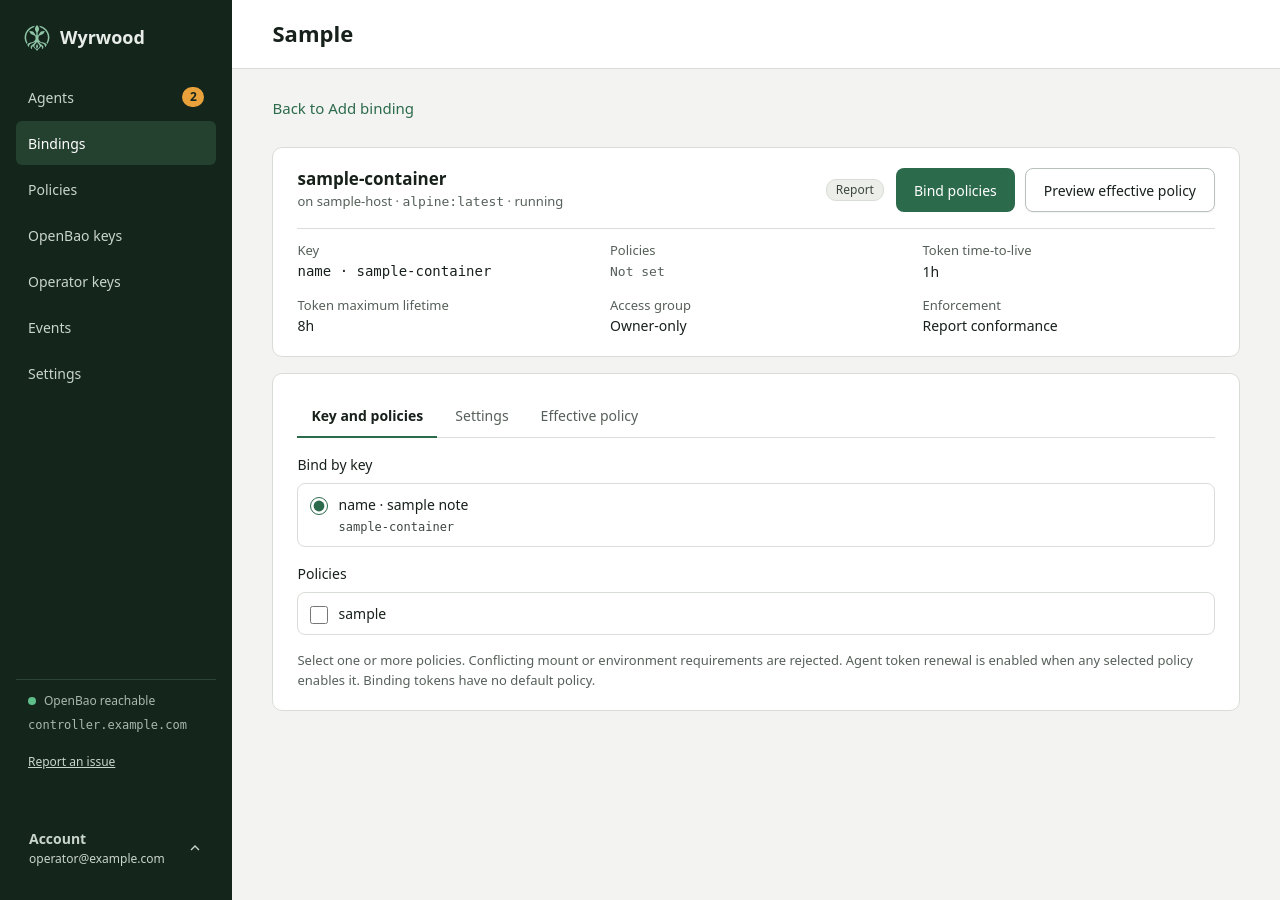
Test: preserves binding keys and explicit recreate consent on the bind screen
Later steps or results of the test are not shown.
Click the checkbox labelled "sample". click: [320, 615]
box: [310,606,328,624]
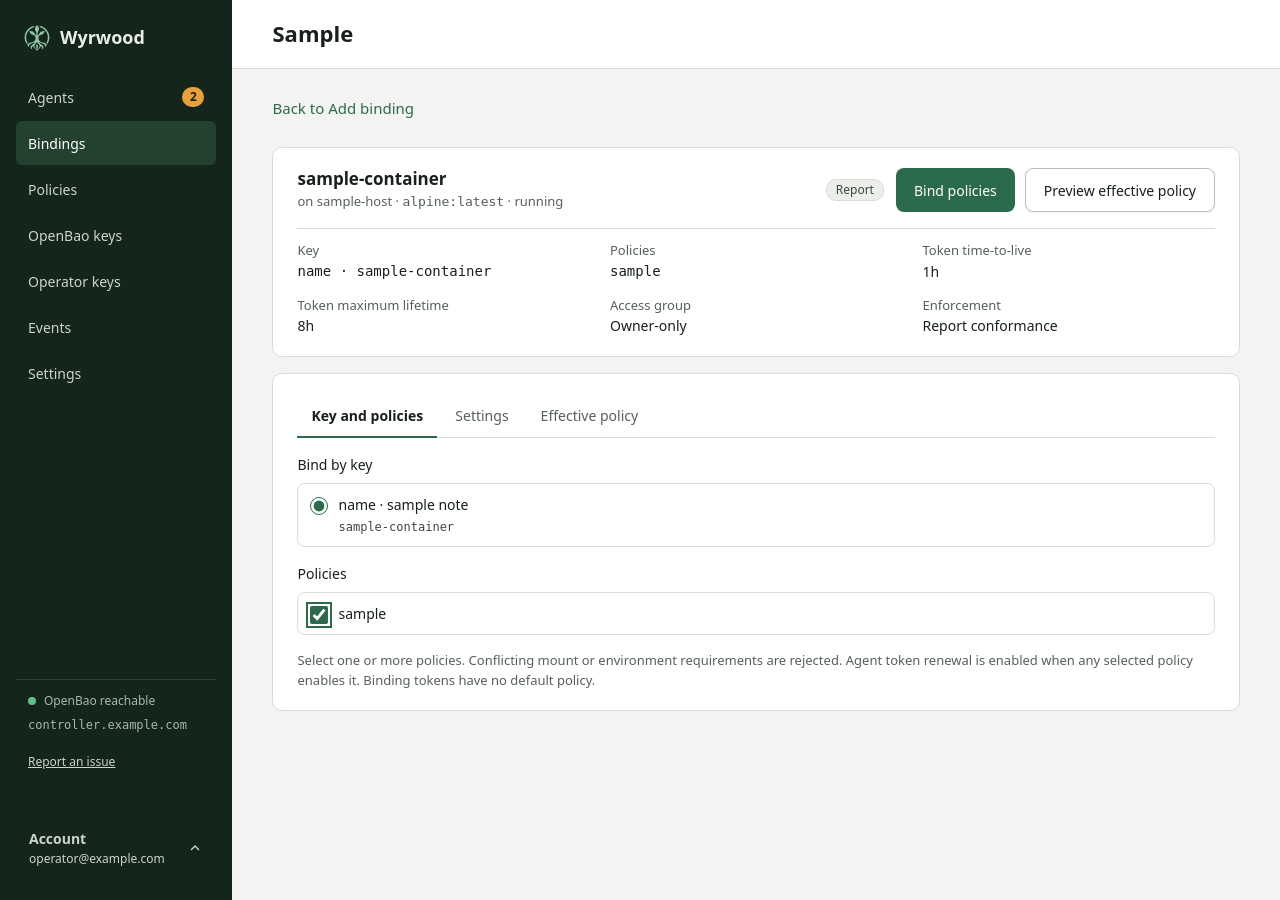
Expected: the form "Bind policies" is shown, [272,147,1240,711]
Expected: the text "sample" next to "1h" is shown, [610,262,661,278]
